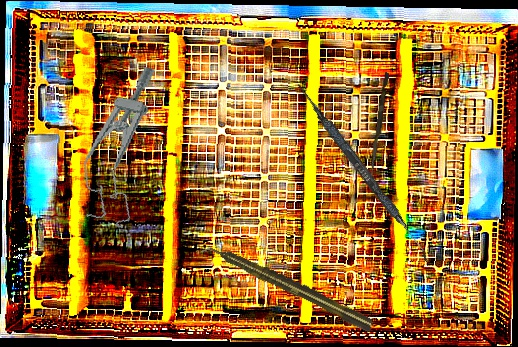Handpiece: (201, 237, 376, 335)
Pusher: (369, 71, 390, 176)
Spatula Surgical: (291, 82, 436, 262)
Speculum: (71, 58, 167, 230)
